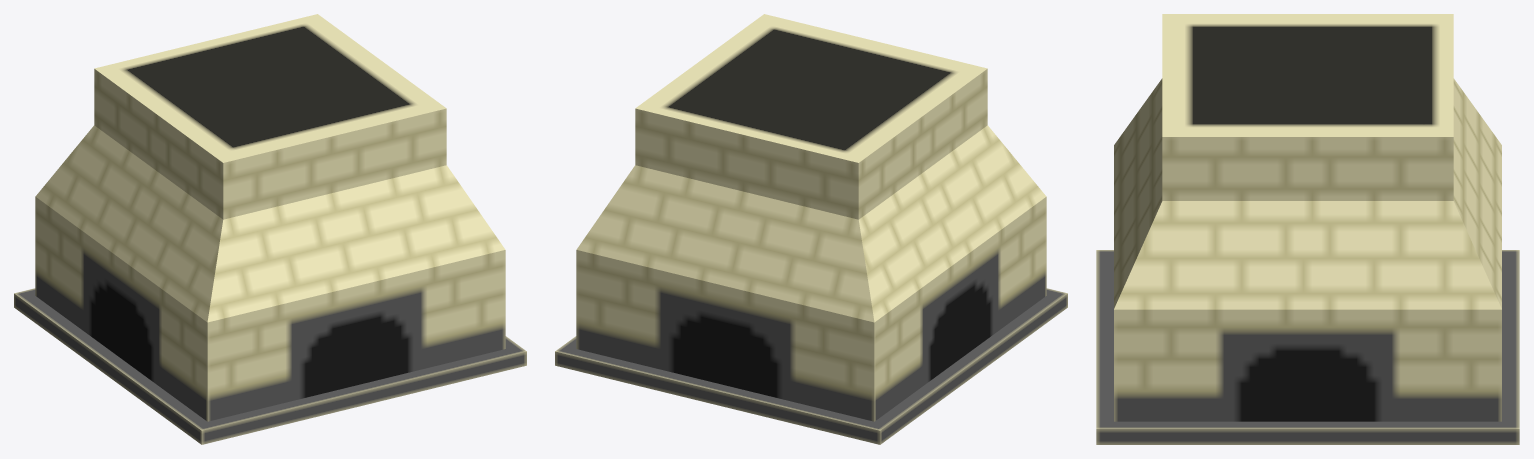
Rendered from combination_oven.obj.
The picture shows the model from 3 angles, left to right: view 1: azimuth 30°, elevation 25°; view 2: azimuth 150°, elevation 25°; view 3: azimuth 270°, elevation 25°; orthographic projection. The views are drawn at different scales.
Visible parts, largest first — view 1: mesh; view 2: mesh; view 3: mesh.
Part boxes in pixels (x1=…): mesh: x1=14, y1=14, x2=526, y2=444; mesh: x1=555, y1=14, x2=1067, y2=444; mesh: x1=1096, y1=14, x2=1519, y2=444.
Size of the model in its own units: 3 by 2.19 by 3.
